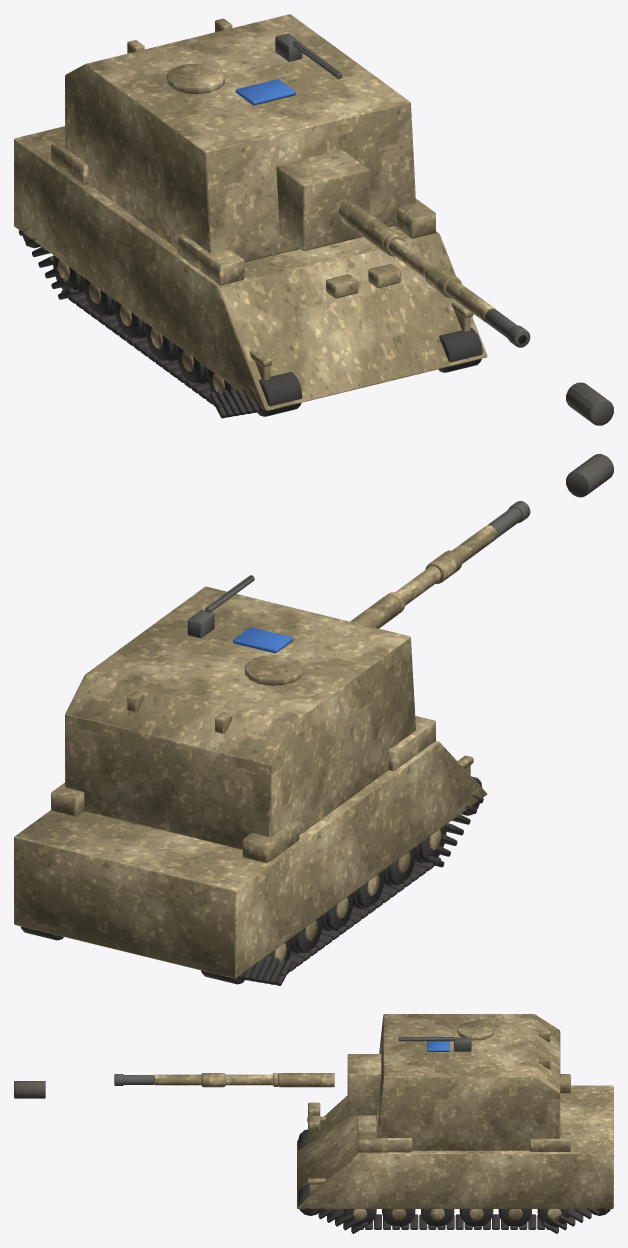
Rendered from art_e4_us_sph_LOD0.glb.
3 renders of one model, top to bottom at view 1: azimuth 30°, elevation 25°; view 2: azimuth 150°, elevation 25°; view 3: azimuth 270°, elevation 25°, orthographic. The views are drawn at different scales.
Visible parts, largest first — view 1: art_e4_us_sph_LOD0_body, art_e4_us_sph_LOD0_track, art_e4_us_sph_LOD0_gun, art_e4_us_sph_LOD0_deck, art_e4_us_sph_LOD0_team; view 2: art_e4_us_sph_LOD0_body, art_e4_us_sph_LOD0_track, art_e4_us_sph_LOD0_gun, art_e4_us_sph_LOD0_deck, art_e4_us_sph_LOD0_team; view 3: art_e4_us_sph_LOD0_body, art_e4_us_sph_LOD0_track, art_e4_us_sph_LOD0_gun, art_e4_us_sph_LOD0_deck.
Part boxes in pixels (x1,y1,x2,y2): art_e4_us_sph_LOD0_body: (14, 14, 495, 410); art_e4_us_sph_LOD0_track: (18, 227, 482, 418); art_e4_us_sph_LOD0_gun: (275, 33, 530, 347); art_e4_us_sph_LOD0_deck: (566, 382, 613, 425); art_e4_us_sph_LOD0_team: (235, 79, 295, 105); art_e4_us_sph_LOD0_body: (14, 525, 497, 978); art_e4_us_sph_LOD0_track: (20, 776, 483, 985); art_e4_us_sph_LOD0_gun: (187, 501, 530, 638); art_e4_us_sph_LOD0_deck: (566, 454, 613, 497); art_e4_us_sph_LOD0_team: (233, 627, 293, 653); art_e4_us_sph_LOD0_body: (154, 1014, 613, 1220); art_e4_us_sph_LOD0_track: (298, 1129, 610, 1233); art_e4_us_sph_LOD0_gun: (114, 1037, 471, 1085); art_e4_us_sph_LOD0_deck: (14, 1081, 45, 1098).
Bounding box in the file's own units: 3.15 × 3.8 × 11.71.
Materials: 6 (1 with a texture image).
